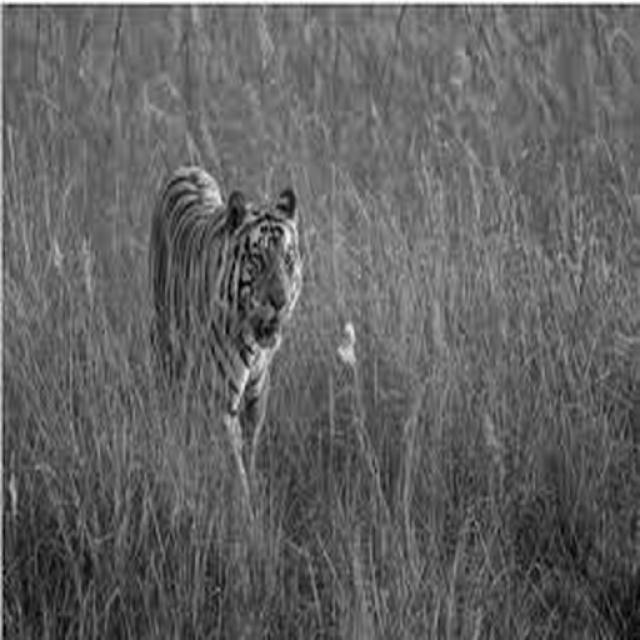Tiger: (146, 163, 302, 505)
